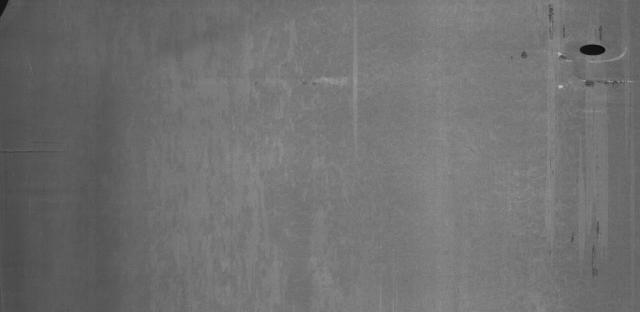punching_hole: (575, 38, 611, 57)
